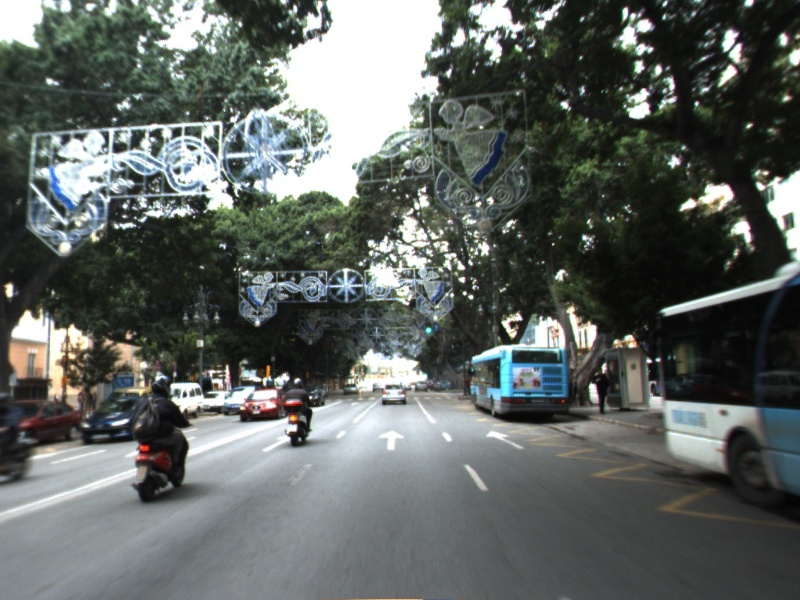STRAIGHT: (484, 428, 528, 451), (377, 428, 406, 452), (259, 433, 292, 454)
